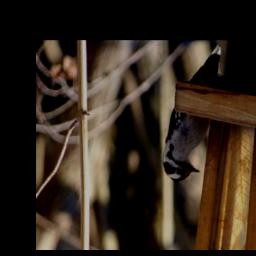Woodpecker: (162, 47, 256, 182)
